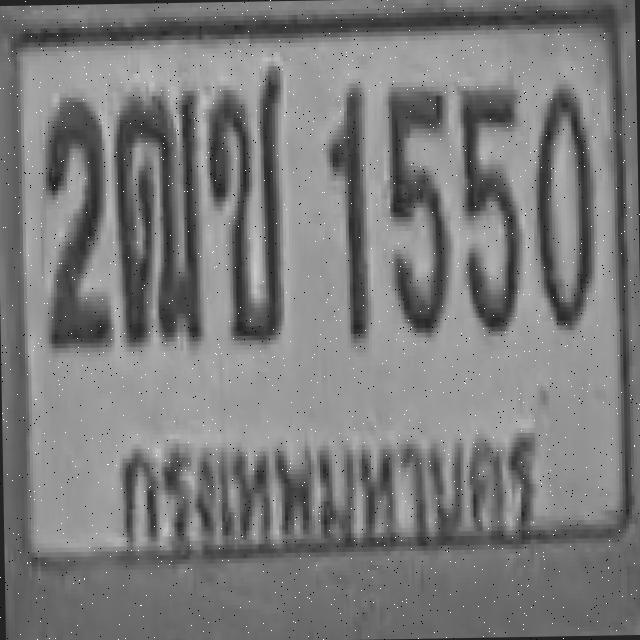0: (530, 79, 590, 326)
1: (323, 80, 367, 340)
19ChorChang: (204, 64, 290, 350)
2: (39, 92, 110, 351)
27ThorPhuThao: (110, 86, 202, 349)
5: (383, 81, 447, 333), (458, 82, 519, 329)
Bangkok: (100, 415, 558, 563)
